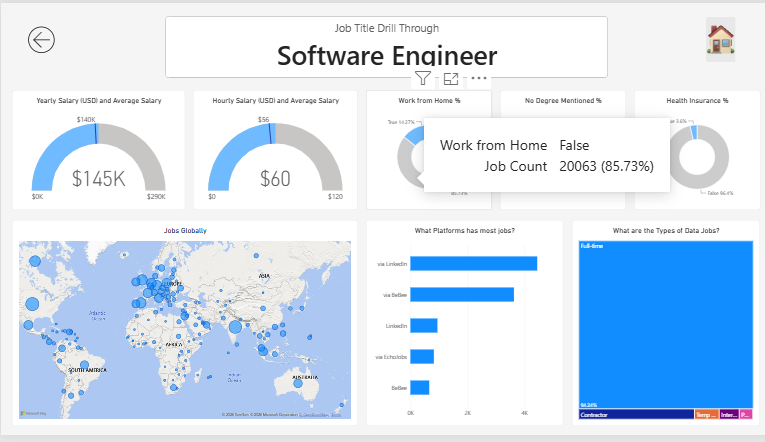

Layout of this report page (visuals, bound fields, positions):
{"tool":"powerbi","page":{"name":"Job Title Drill Through","canvas":[1920,1080],"ordinal":2},"visuals":[{"type":"cardVisual","fields":{"Data":["Min(job_postings_flat.job_title_short)"]},"box":[411.1,33.3,1108.9,155.6],"z":1000},{"type":"actionButton","box":[28.9,34.2,142.1,113.2],"z":2000},{"type":"gauge","fields":{"TargetValue":["Avg(Job_Postings_Flat.salary_year_avg)1"],"Y":["Median(Job_Postings_Flat.salary_year_avg)"]},"box":[28.4,216.4,432.8,300],"z":3000},{"type":"gauge","fields":{"TargetValue":["Avg(Job_Postings_Flat.salary_hour_avg)1"],"Y":["Median(Job_Postings_Flat.salary_hour_avg)"]},"box":[480.6,216.4,411.9,300],"z":4000},{"type":"donutChart","title":"Work from Home %","fields":{"Category":["Job_Postings_Flat.job_work_from_home"],"Y":["CountNonNull(Job_Postings_Flat.job_work_from_home)"]},"box":[911.9,216.4,315.8,300],"z":5000},{"type":"donutChart","title":"Health Insurance %","fields":{"Category":["Job_Postings_Flat.job_health_insurance"],"Y":["CountNonNull(Job_Postings_Flat.job_health_insurance)"]},"box":[1583.6,216.4,315.8,300],"z":6000},{"type":"donutChart","title":"No Degree Mentioned %","fields":{"Category":["Job_Postings_Flat.job_no_degree_mention"],"Y":["CountNonNull(Job_Postings_Flat.job_no_degree_mention)"]},"box":[1247.5,217.5,315,300],"z":7000},{"type":"map","title":"Jobs Globally","fields":{"Category":["Job_Postings_Flat.job_country"],"Size":["CountNonNull(Job_Postings_Flat.job_title_short)"]},"box":[27.5,542.5,865,515],"z":8000},{"type":"treemap","title":"What are the Types of Data Jobs?","fields":{"Group":["Job_Postings_Flat.job_schedule_type"],"Values":["CountNonNull(Job_Postings_Flat.job_title_short)"]},"box":[1427.5,542.5,470,515],"z":9000},{"type":"barChart","title":"What Platforms has most jobs?","fields":{"Category":["Job_Postings_Flat.job_via"],"Y":["CountNonNull(Job_Postings_Flat.job_via)"]},"box":[912.5,542.5,492.5,515],"z":10000},{"type":"actionButton","box":[1762.4,34,74.4,112.7],"z":11000}]}

Visuals, with their boxes in screenshot pixels (x1, y1, x2, y2), scaled from the page's 1920x1080 canvas onto the 765x442 screenshot:
cardVisual - Min(job_postings_flat.job_title_short): [left=164, top=14, right=606, bottom=77]
actionButton: [left=12, top=14, right=68, bottom=60]
gauge - Avg(Job_Postings_Flat.salary_year_avg)1 x Median(Job_Postings_Flat.salary_year_avg): [left=11, top=89, right=184, bottom=211]
gauge - Avg(Job_Postings_Flat.salary_hour_avg)1 x Median(Job_Postings_Flat.salary_hour_avg): [left=191, top=89, right=356, bottom=211]
"Work from Home %" donutChart: [left=363, top=89, right=489, bottom=211]
"Health Insurance %" donutChart: [left=631, top=89, right=757, bottom=211]
"No Degree Mentioned %" donutChart: [left=497, top=89, right=623, bottom=212]
"Jobs Globally" map: [left=11, top=222, right=356, bottom=433]
"What are the Types of Data Jobs?" treemap: [left=569, top=222, right=756, bottom=433]
"What Platforms has most jobs?" barChart: [left=364, top=222, right=560, bottom=433]
actionButton: [left=702, top=14, right=732, bottom=60]
